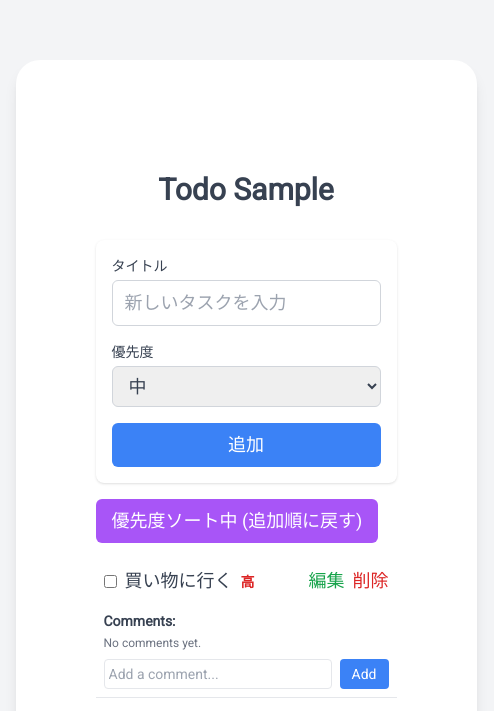
Scenario: App › 新しいTodoアイテムを追加できる
//  タイトルを入力
Type "新しいタスク" into the field labelled "タイトル" at coordinates (246, 303), box [112,280,380,326]
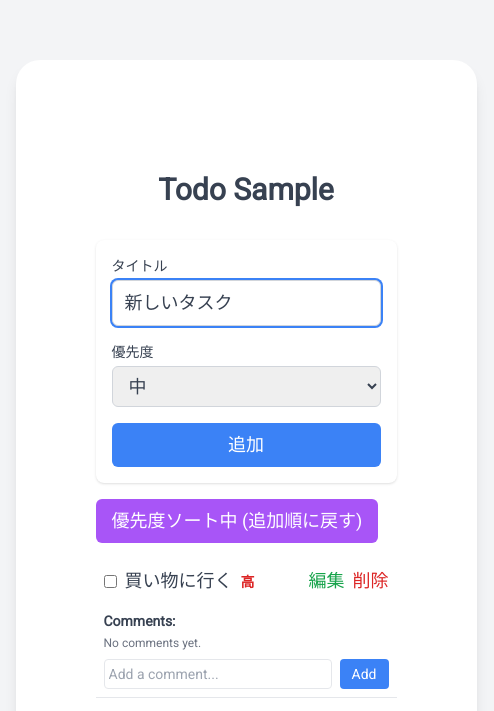
Select "高" in the dropdown labelled "優先度" at coordinates (246, 386), box [112,366,380,407]
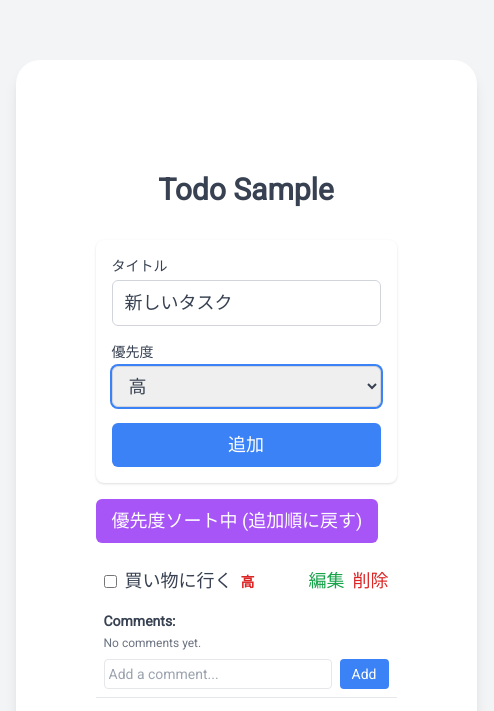
// 追加ボタンをクリック
Click the button "追加" at coordinates (246, 445), box [112,423,380,467]
(page scrolled)
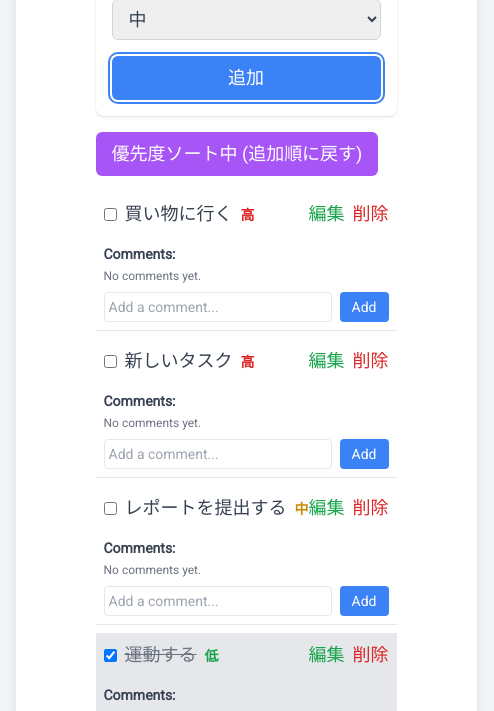
Expected: the text "新しいタスク" is shown, [124,350,232,371]
